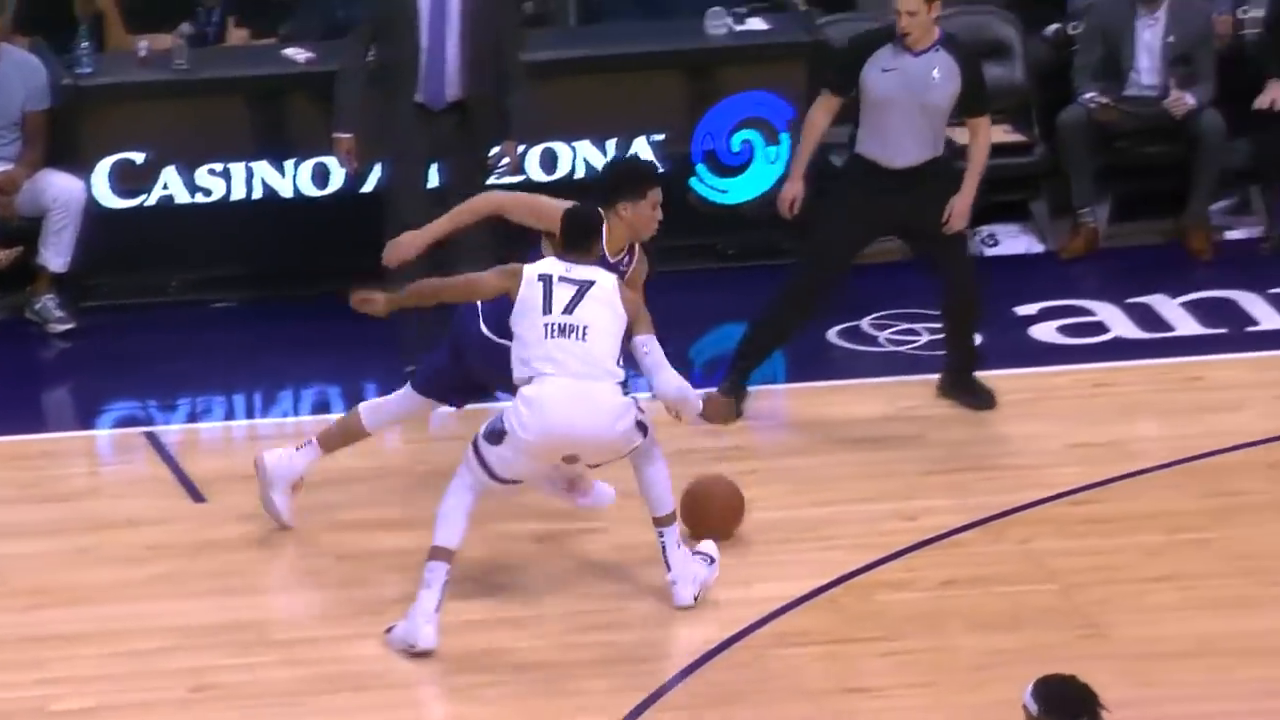ball: (680, 474, 753, 546)
